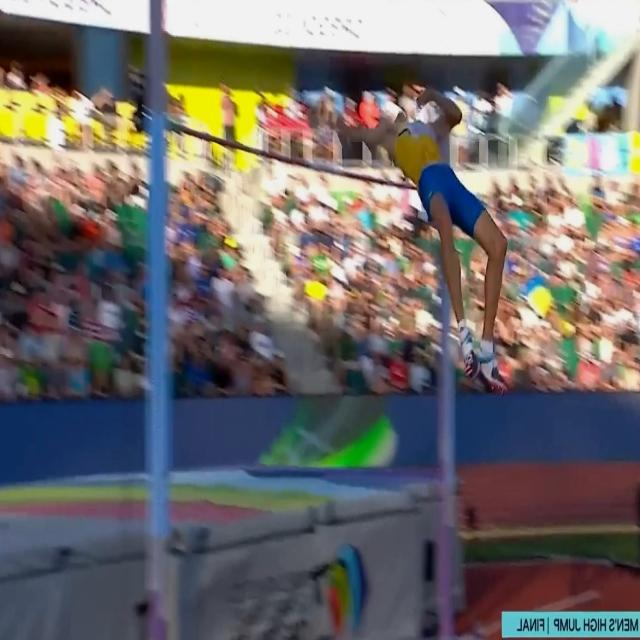jump: (332, 86, 512, 397)
